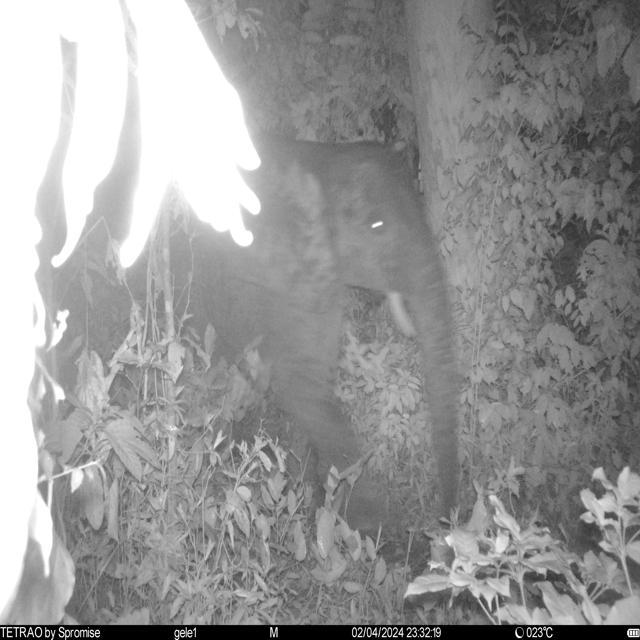ear: (216, 142, 342, 317)
elephant: (172, 130, 460, 532)
tusk: (383, 291, 421, 340)
